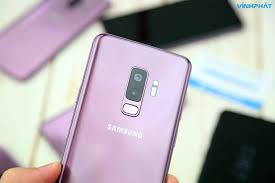samsung: (56, 30, 193, 183)
